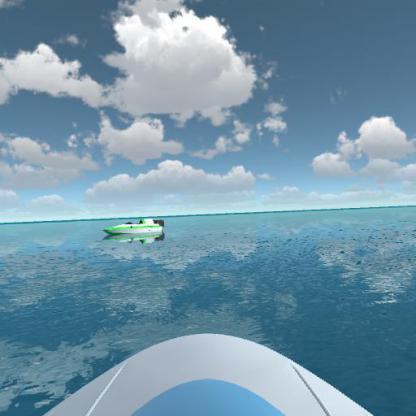usv0: (98, 213, 169, 248)
